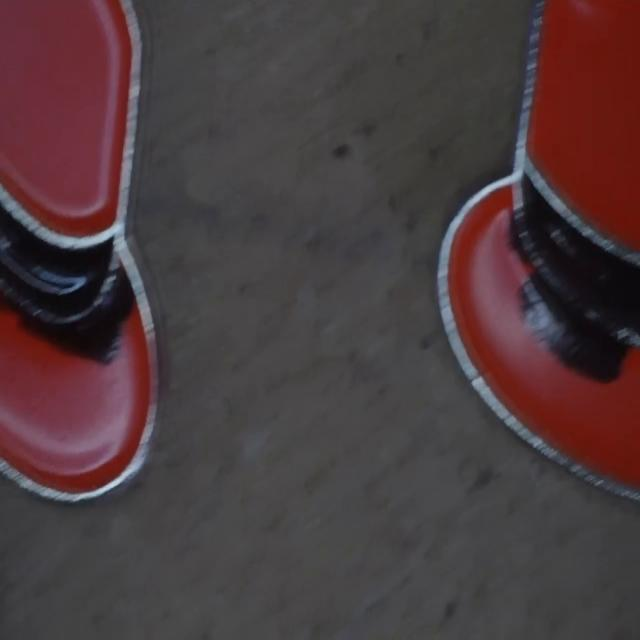Hatband: (515, 178, 640, 343), (0, 191, 119, 327)
Paint_Leak: (0, 253, 135, 364), (521, 271, 628, 382)
RedHatPin: (0, 0, 158, 501)
